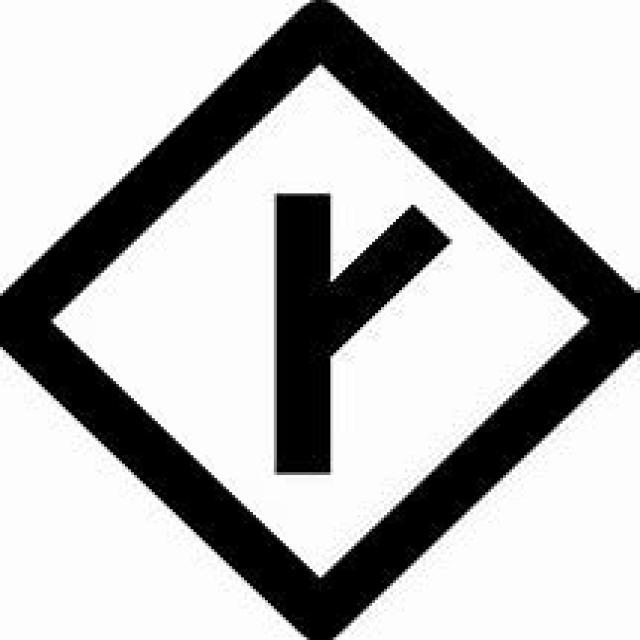y intersection: (52, 68, 599, 582)
